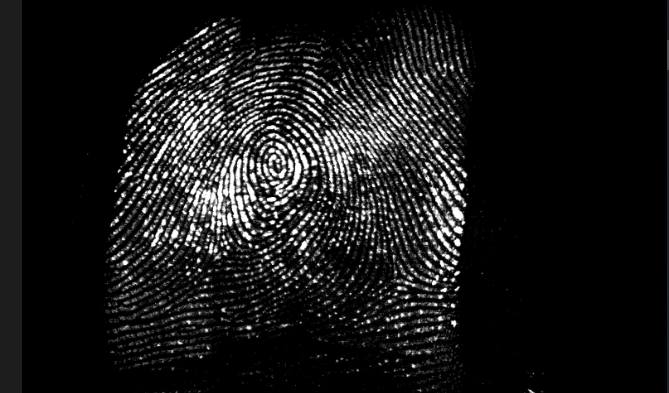nucelo: (262, 146, 289, 180)
verticilo: (386, 257, 415, 288), (205, 235, 235, 262)
